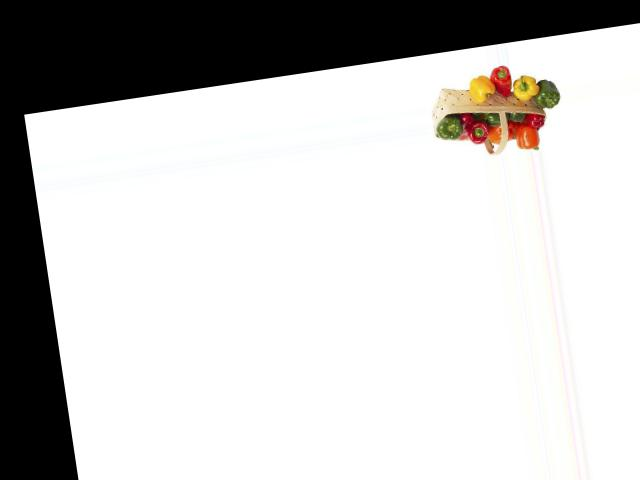bell_pepper: (435, 114, 467, 142)
